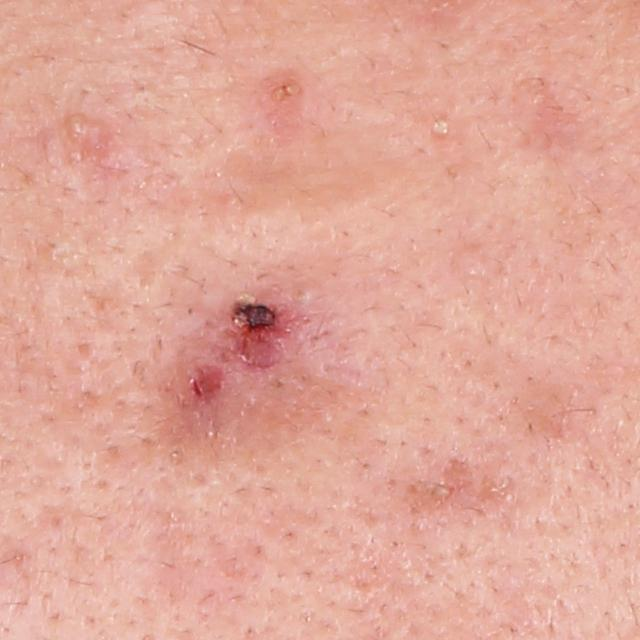comedo: (57, 110, 91, 144)
papule: (209, 276, 311, 383), (173, 352, 235, 415), (255, 73, 309, 125)
pustule: (425, 109, 459, 147)
